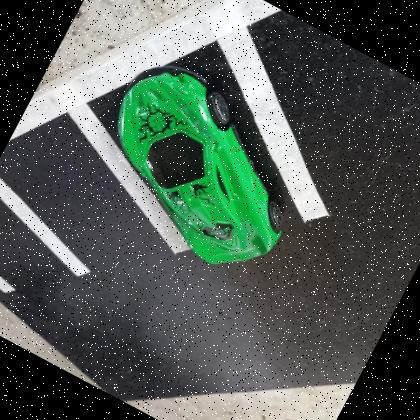Car: (70, 46, 331, 288)
